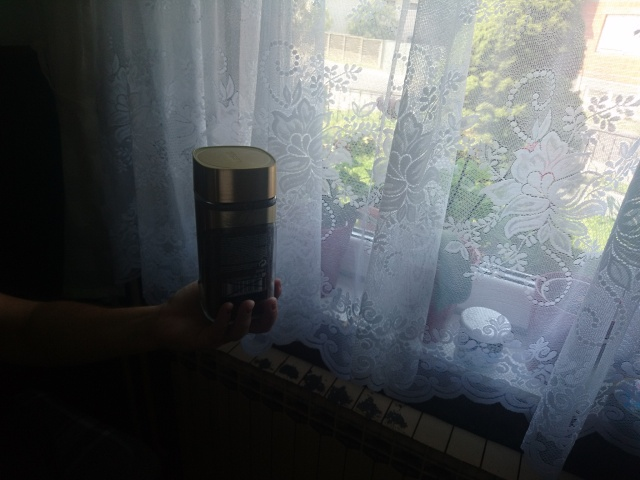Nescafe Gold 225g: (189, 143, 281, 329)
